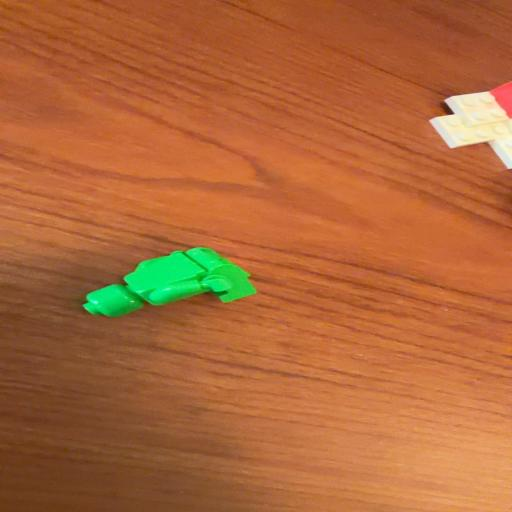UnoQ-minifig-detector: (83, 247, 256, 317)
